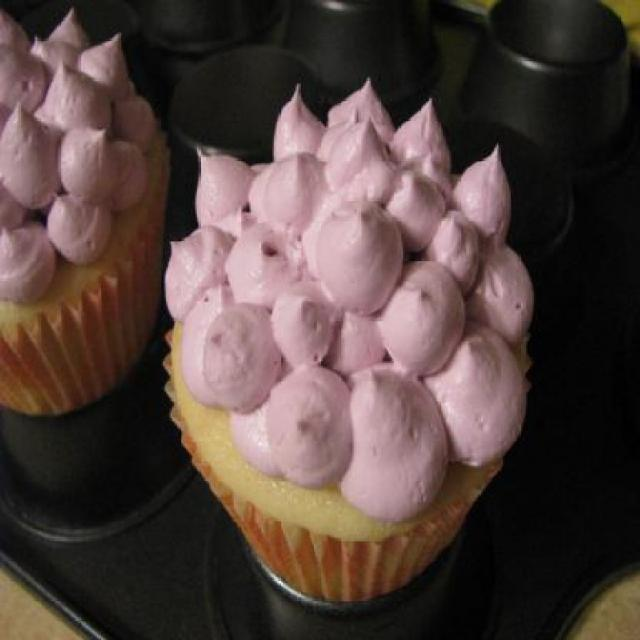Muffin: (167, 103, 530, 622), (0, 9, 171, 420)
